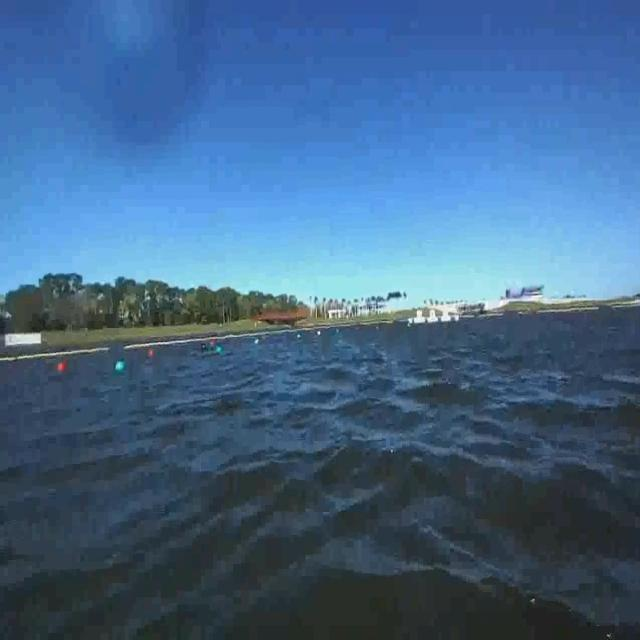green-buoy: (114, 360, 130, 378)
red-buoy: (55, 356, 66, 375), (147, 342, 154, 362)
